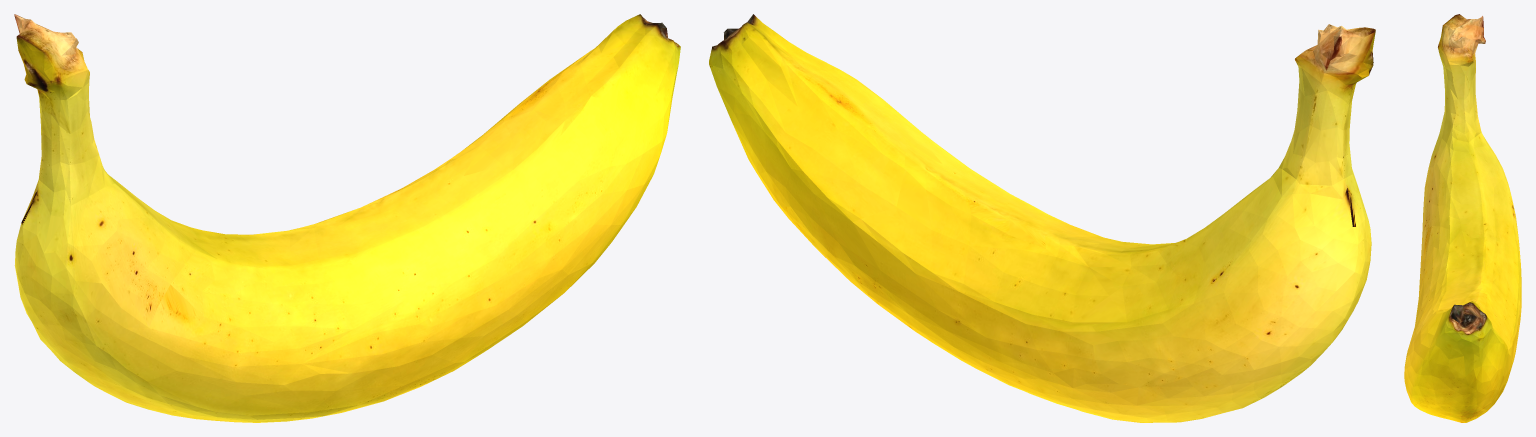
The model's file is threejs-banana-transformed.glb.
3 renders of one model, left to right at view 1: azimuth 30°, elevation 25°; view 2: azimuth 150°, elevation 25°; view 3: azimuth 270°, elevation 25°, orthographic. The views are drawn at different scales.
Parts seen in each view (by area): view 1: banana; view 2: banana; view 3: banana.
Boxes of the visible parts, <box> form: banana: <box>14,14,680,422</box>; banana: <box>709,14,1375,422</box>; banana: <box>1404,14,1521,422</box>.
Size of the model in its own units: 6.79 by 4.44 by 1.61.
Materials: 1 (1 with a texture image).
